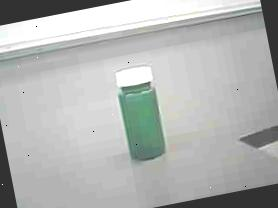Bottle C: (96, 56, 184, 173)
